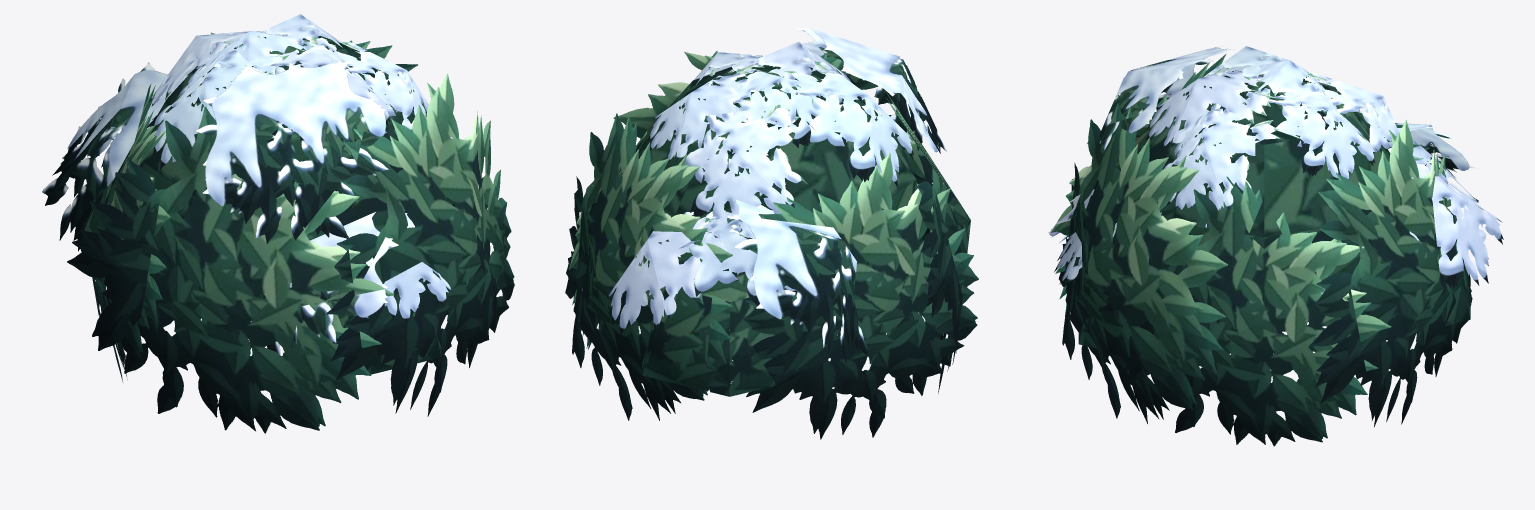
The model's file is shrub_snow_a.glb.
3 renders of one model, left to right at view 1: azimuth 30°, elevation 25°; view 2: azimuth 150°, elevation 25°; view 3: azimuth 270°, elevation 25°, orthographic. The views are drawn at different scales.
Visible parts, largest first — view 1: shrub_snow_a; view 2: shrub_snow_a; view 3: shrub_snow_a.
Boxes of the visible parts, box(x1,y1,x2,y2) form: shrub_snow_a: box(42, 14, 514, 433); shrub_snow_a: box(565, 27, 978, 439); shrub_snow_a: box(1048, 45, 1503, 446).
Bounding box in the file's own units: 1.36 × 1.18 × 1.4.
Materials: 1 (1 with a texture image).
